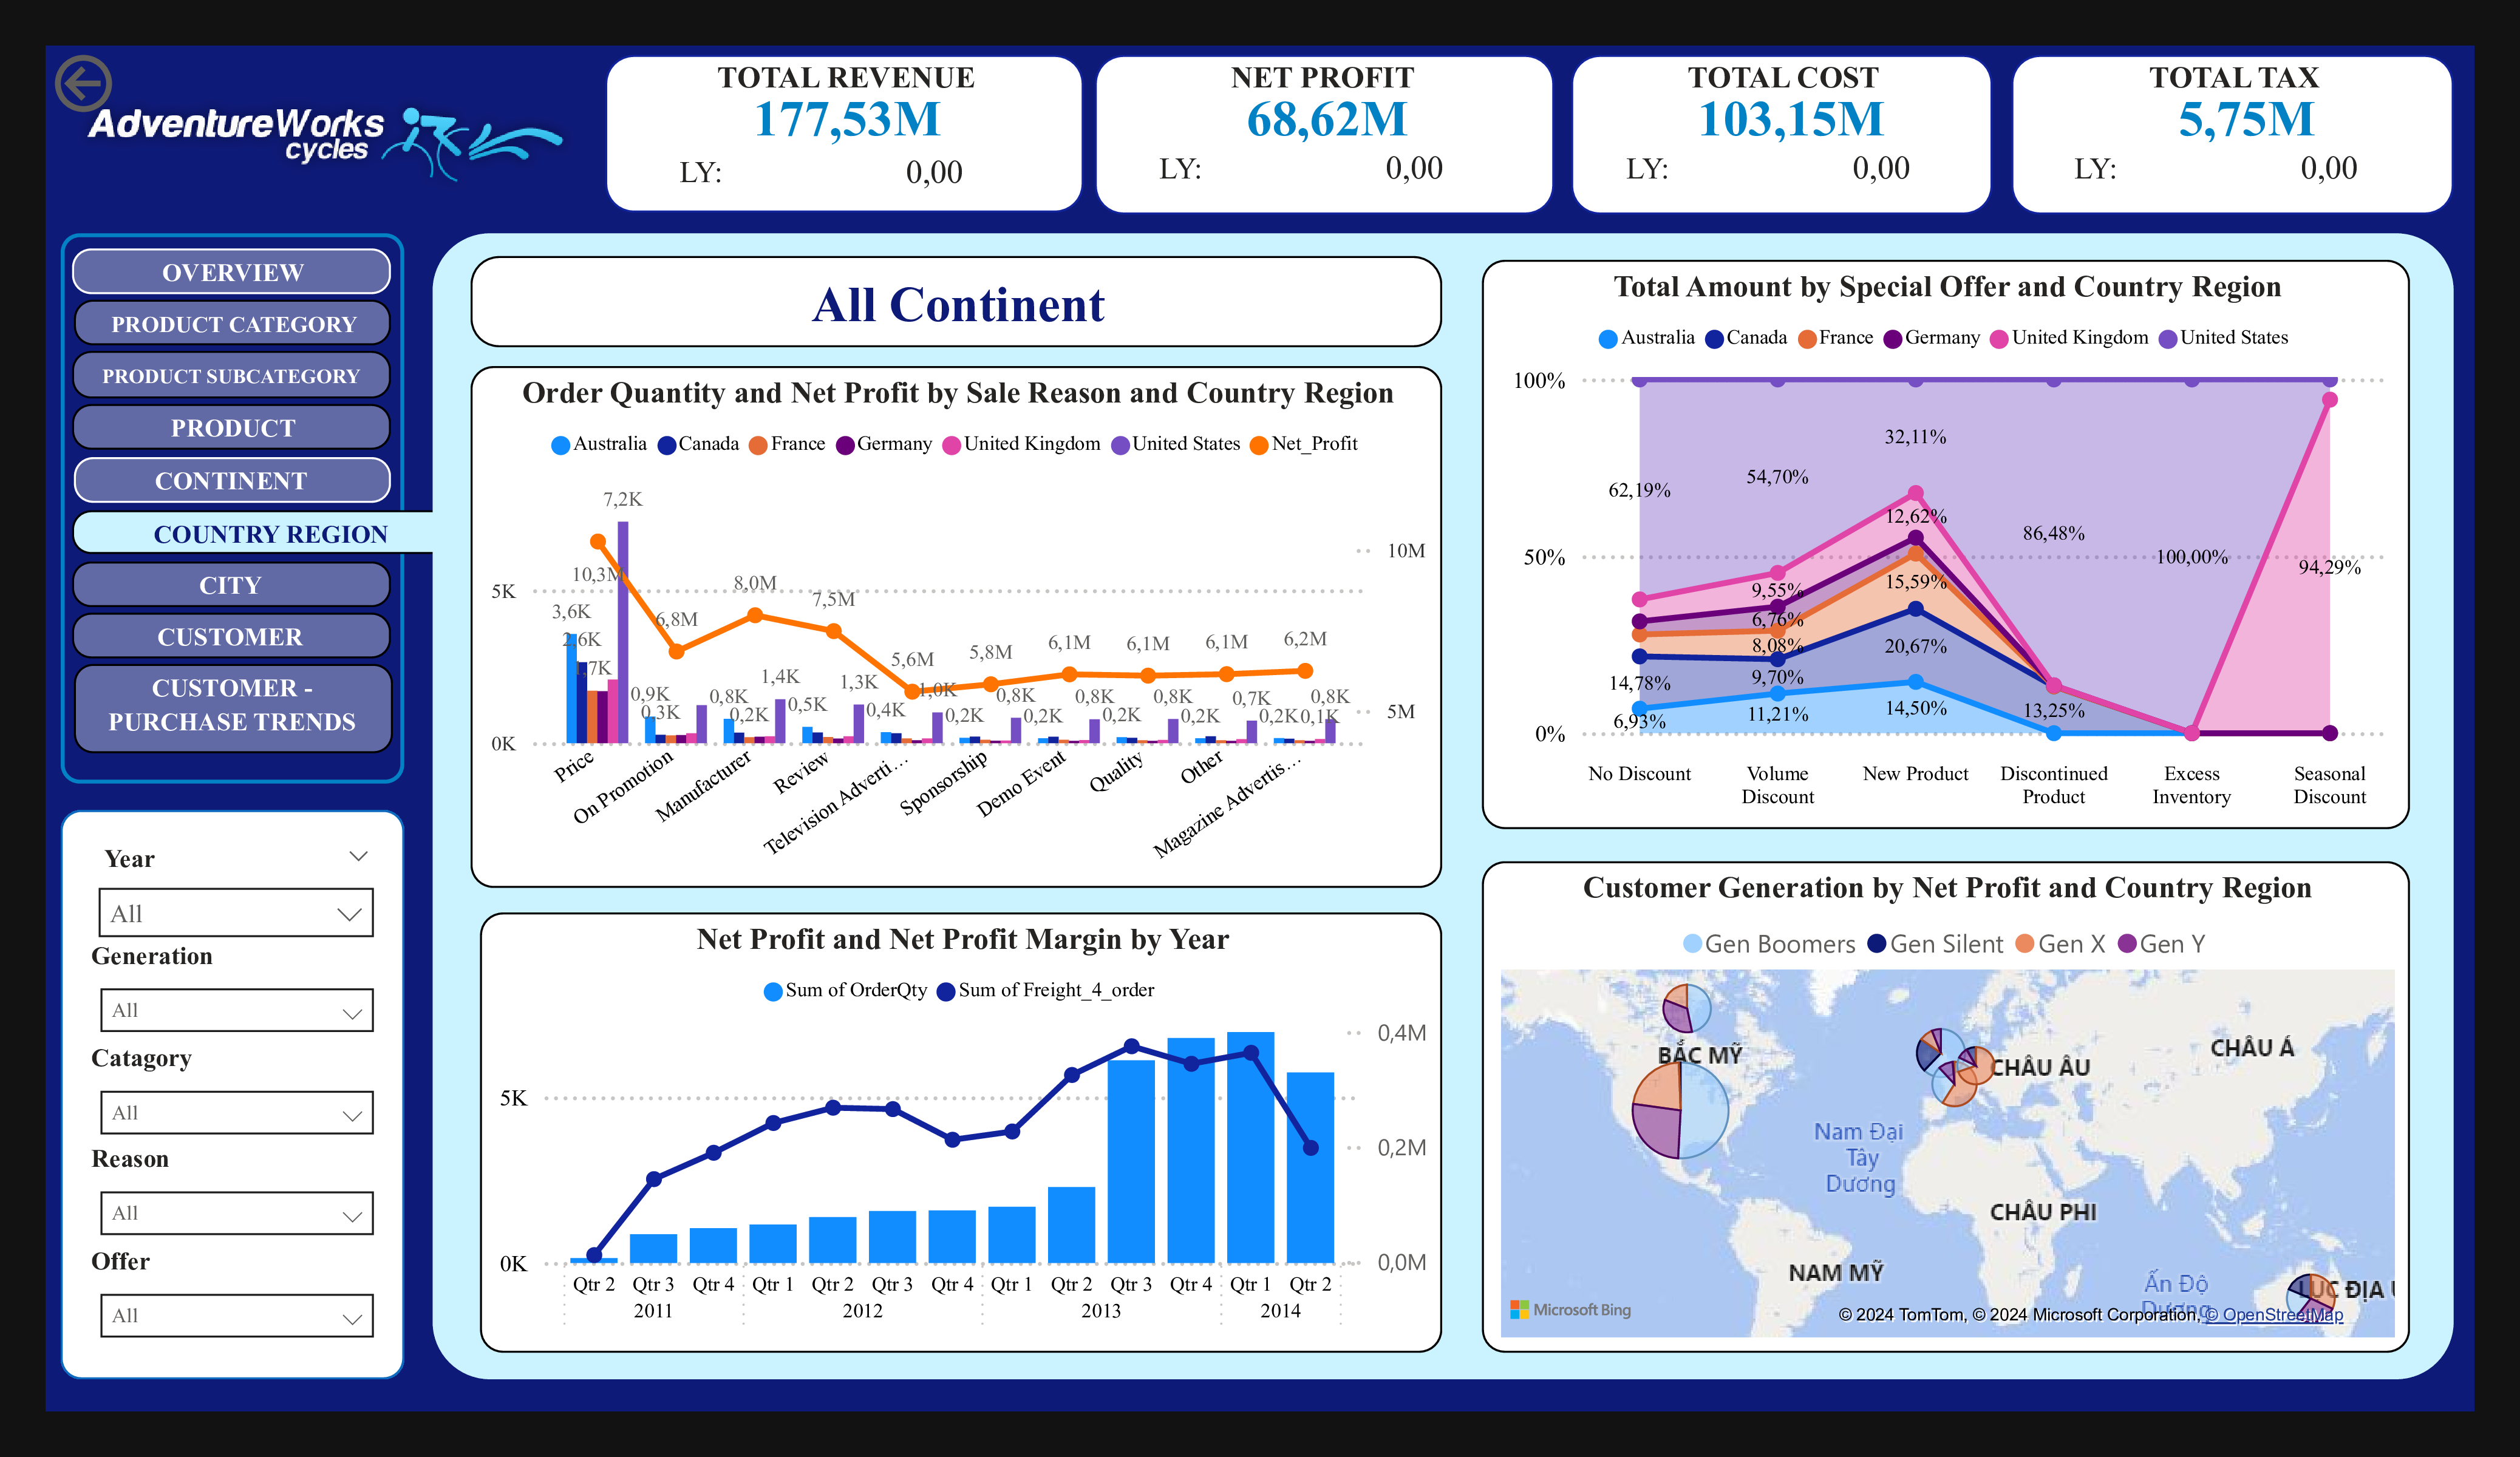

This screenshot's page, from the dashboard's own definition file:
{"tool":"powerbi","page":{"name":"CountryRegion","canvas":[1280,720],"ordinal":5},"visuals":[{"type":"textbox","box":[295.4,4.6,251.2,83.5],"z":0},{"type":"group","id":"g1","title":"Group 3","box":[828.3,50.9,94.3,29.3],"z":0,"group":"g7"},{"type":"textbox","box":[828.3,50.9,83.6,29.3],"z":0,"group":"g1"},{"type":"group","id":"g2","title":"Group 3","box":[1064.3,50.9,94.3,29.3],"z":0,"group":"g8"},{"type":"textbox","box":[1064.3,50.9,83.6,29.3],"z":0,"group":"g2"},{"type":"group","id":"g3","title":"Group 3","box":[581.9,51,94.3,29.3],"z":0,"group":"g6"},{"type":"textbox","box":[581.9,51,83.6,29.3],"z":0,"group":"g3"},{"type":"group","id":"g4","title":"Group 3","box":[329.1,53.4,94.3,29.3],"z":0,"group":"g5"},{"type":"textbox","box":[329.1,53.4,83.6,29.3],"z":0,"group":"g4"},{"type":"card","fields":{"Values":["Fact_SalesOrderHeader.Total_Revenue"]},"box":[347.7,22.7,147.3,33.5],"z":1000},{"type":"card","fields":{"Values":["Fact_SalesOrderHeader.Prev_Total_Cost"]},"box":[855.1,50.9,67.5,24.3],"z":1000,"group":"g1"},{"type":"card","fields":{"Values":["Fact_SalesOrderHeader.%Change_Cost"]},"box":[922.6,50.9,90.7,29.3],"z":1000,"group":"g7"},{"type":"card","fields":{"Values":["Fact_SalesOrderHeader.Prev_Total_Tax"]},"box":[1091.1,50.9,67.5,24.3],"z":1000,"group":"g2"},{"type":"card","fields":{"Values":["Fact_SalesOrderHeader.%Change_Tax"]},"box":[1158.6,50.9,90.7,29.3],"z":1000,"group":"g8"},{"type":"card","fields":{"Values":["Fact_SalesOrderHeader.Prev_Net_Profit"]},"box":[608.7,51,67.5,24.3],"z":1000,"group":"g3"},{"type":"card","fields":{"Values":["Fact_SalesOrderHeader.%Change_Net_Profit"]},"box":[676.2,51,90.7,29.3],"z":1000,"group":"g6"},{"type":"card","fields":{"Values":["Fact_SalesOrderHeader.Prev_Total_Revenue"]},"box":[355.9,53.4,67.5,24.3],"z":1000,"group":"g4"},{"type":"card","fields":{"Values":["Fact_SalesOrderHeader.%Change_Revenue"]},"box":[423.4,53.4,90.7,29.3],"z":1000,"group":"g5"},{"type":"textbox","box":[553.3,4.8,241.9,83.8],"z":2000},{"type":"textbox","box":[803.8,5,222.5,83.8],"z":3000},{"type":"textbox","box":[1036.2,5,232.5,83.8],"z":4000},{"type":"card","fields":{"Values":["Fact_SalesOrderHeader.Net_Profit"]},"box":[587.1,22.9,174.8,33.3],"z":5000},{"type":"card","fields":{"Values":["Fact_SalesOrderHeader.Total_Cost"]},"box":[839.1,23,160,32.6],"z":6000},{"type":"card","fields":{"Values":["Fact_SalesOrderHeader.Total_Tax"]},"box":[1091.7,23,133.9,32.6],"z":7000},{"type":"group","id":"g5","title":"Group 4","box":[329.1,53.4,184.4,29.1],"z":8000},{"type":"group","id":"g6","title":"Group 4","box":[581.9,51,184.8,29],"z":9000},{"type":"group","id":"g7","title":"Group 4","box":[828.3,50.9,185.2,29.1],"z":10000},{"type":"group","id":"g8","title":"Group 4","box":[1064.3,50.9,184.8,29.1],"z":11000},{"type":"slicer","fields":{"Values":["Datetime.OrderDate.Variation.Date Hierarchy.Year"]},"box":[18.2,416.2,165.2,56.5],"z":11000,"group":"g9"},{"type":"shape","box":[7.5,99,181.5,290],"z":12000},{"type":"slicer","title":"Catagory ","fields":{"Values":["ProductCategory.Name"]},"box":[19,526.6,164.4,52.7],"z":12000,"group":"g9"},{"type":"image","box":[0,22,295,61],"z":13000},{"type":"slicer","title":"Reason ","fields":{"Values":["SalesReason.Name"]},"box":[19,579.3,164.4,54],"z":13000,"group":"g9"},{"type":"textbox","box":[14.4,106.7,167.8,23.9],"z":14000},{"type":"slicer","title":"Offer ","fields":{"Values":["SpecialOffer.Type"]},"box":[19,633.3,164.4,55.2],"z":14000,"group":"g9"},{"type":"textbox","box":[14.8,134.1,167,24.1],"z":15000},{"type":"slicer","title":"Generation","fields":{"Values":["Sales Customer.Generation"]},"box":[19,472.7,164.4,55.2],"z":15000,"group":"g9"},{"type":"textbox","box":[14.4,161.5,167.4,24.1],"z":16000},{"type":"textbox","box":[14.4,188.9,167.4,24.4],"z":17000},{"type":"textbox","box":[14.7,216.8,167.4,23.7],"z":18000},{"type":"textbox","box":[14.4,245,207.8,23.3],"z":19000},{"type":"textbox","box":[14.2,272.1,167.4,23.7],"z":20000},{"type":"textbox","box":[14.2,299.5,167.4,23.7],"z":21000},{"type":"shape","box":[8.2,402.5,181.2,300],"z":22000},{"type":"group","id":"g9","title":"Group 1","box":[18.2,416.2,165,272.5],"z":23000},{"type":"shape","box":[203.8,98.8,1065,603.8],"z":24000},{"type":"map","title":"Product Category by Net Profit and Country Region ","fields":{"Size":["Fact_SalesOrderHeader.Net_Profit"],"Category":["CountryRegion.Name"],"Series":["ProductCategory.Name"]},"box":[224.3,171.4,511.4,258.6],"z":25000},{"type":"lineClusteredColumnComboChart","title":"Order Quantity and Sum of Freight by Year","fields":{"Category":["Datetime.OrderDate.Variation.Date Hierarchy.Year","Datetime.OrderDate.Variation.Date Hierarchy.Quarter"],"Y2":["Sum(Fact_SalesOrderHeader.Freight_4_order)"],"Y":["Sum(Fact_SalesOrderDetail.OrderQty)"]},"box":[221.4,444.3,514.3,244.3],"z":26000},{"type":"hundredPercentStackedAreaChart","title":"Total Amount by Special Offer and Country Region ","fields":{"Category":["SpecialOffer.Type"],"Y":["Sum(Fact_SalesOrderHeader.Total_Amount_4_Order)"],"Series":["CountryRegion.Name"]},"box":[757.1,112.9,488.6,317.1],"z":27000},{"type":"textbox","box":[15,326.1,167.8,47.2],"z":28000},{"type":"card","fields":{"Values":["Continent.Selected_Continent"]},"box":[224.3,111.4,511.4,47.1],"z":29000},{"type":"actionButton","box":[0,0,100,40],"z":30000},{"type":"lineStackedColumnComboChart","title":"Total Customer and Net Profit by CountryName","fields":{"Category":["CountryRegion.Name"],"Y2":["Fact_SalesOrderHeader.Net_Profit"],"Y":["CountNonNull(Sales Customer.CustomerID)"]},"box":[757,444.2,488.4,244.2],"z":31000}]}

Visuals, with their boxes on the page's 1280x720 design canvas (x1, y1, x2, y2). These are canvas units, not pixel positions in the 2520x1457 screenshot, which may show the page scaled, cropped or inside an application window:
textbox: box=[295, 5, 547, 88]
"Group 3" group: box=[828, 51, 923, 80]
textbox: box=[828, 51, 912, 80]
"Group 3" group: box=[1064, 51, 1159, 80]
textbox: box=[1064, 51, 1148, 80]
"Group 3" group: box=[582, 51, 676, 80]
textbox: box=[582, 51, 666, 80]
"Group 3" group: box=[329, 53, 423, 83]
textbox: box=[329, 53, 413, 83]
card - Fact_SalesOrderHeader.Total_Revenue: box=[348, 23, 495, 56]
card - Fact_SalesOrderHeader.Prev_Total_Cost: box=[855, 51, 923, 75]
card - Fact_SalesOrderHeader.%Change_Cost: box=[923, 51, 1013, 80]
card - Fact_SalesOrderHeader.Prev_Total_Tax: box=[1091, 51, 1159, 75]
card - Fact_SalesOrderHeader.%Change_Tax: box=[1159, 51, 1249, 80]
card - Fact_SalesOrderHeader.Prev_Net_Profit: box=[609, 51, 676, 75]
card - Fact_SalesOrderHeader.%Change_Net_Profit: box=[676, 51, 767, 80]
card - Fact_SalesOrderHeader.Prev_Total_Revenue: box=[356, 53, 423, 78]
card - Fact_SalesOrderHeader.%Change_Revenue: box=[423, 53, 514, 83]
textbox: box=[553, 5, 795, 89]
textbox: box=[804, 5, 1026, 89]
textbox: box=[1036, 5, 1269, 89]
card - Fact_SalesOrderHeader.Net_Profit: box=[587, 23, 762, 56]
card - Fact_SalesOrderHeader.Total_Cost: box=[839, 23, 999, 56]
card - Fact_SalesOrderHeader.Total_Tax: box=[1092, 23, 1226, 56]
"Group 4" group: box=[329, 53, 514, 82]
"Group 4" group: box=[582, 51, 767, 80]
"Group 4" group: box=[828, 51, 1014, 80]
"Group 4" group: box=[1064, 51, 1249, 80]
slicer - Datetime.OrderDate.Variation.Date Hierarchy.Year: box=[18, 416, 183, 473]
shape: box=[8, 99, 189, 389]
"Catagory " slicer: box=[19, 527, 183, 579]
image: box=[0, 22, 295, 83]
"Reason " slicer: box=[19, 579, 183, 633]
textbox: box=[14, 107, 182, 131]
"Offer " slicer: box=[19, 633, 183, 688]
textbox: box=[15, 134, 182, 158]
"Generation" slicer: box=[19, 473, 183, 528]
textbox: box=[14, 162, 182, 186]
textbox: box=[14, 189, 182, 213]
textbox: box=[15, 217, 182, 240]
textbox: box=[14, 245, 222, 268]
textbox: box=[14, 272, 182, 296]
textbox: box=[14, 300, 182, 323]
shape: box=[8, 402, 189, 702]
"Group 1" group: box=[18, 416, 183, 689]
shape: box=[204, 99, 1269, 703]
"Product Category by Net Profit and Country Region " map: box=[224, 171, 736, 430]
"Order Quantity and Sum of Freight by Year" lineClusteredColumnComboChart: box=[221, 444, 736, 689]
"Total Amount by Special Offer and Country Region " hundredPercentStackedAreaChart: box=[757, 113, 1246, 430]
textbox: box=[15, 326, 183, 373]
card - Continent.Selected_Continent: box=[224, 111, 736, 158]
actionButton: box=[0, 0, 100, 40]
"Total Customer and Net Profit by CountryName" lineStackedColumnComboChart: box=[757, 444, 1245, 688]
